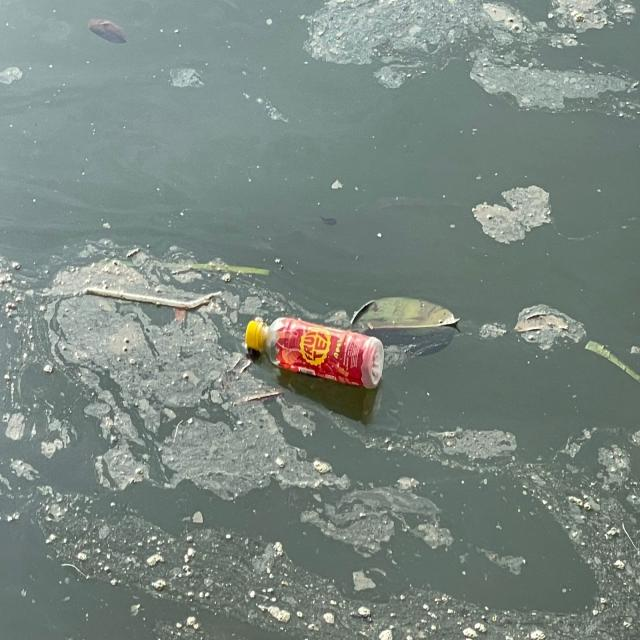Botol Plastik: (239, 309, 388, 398)
